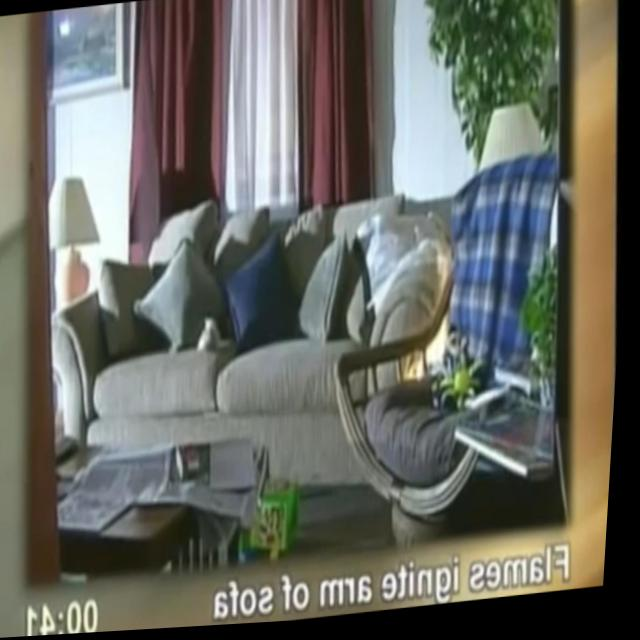fire: (402, 249, 459, 384)
